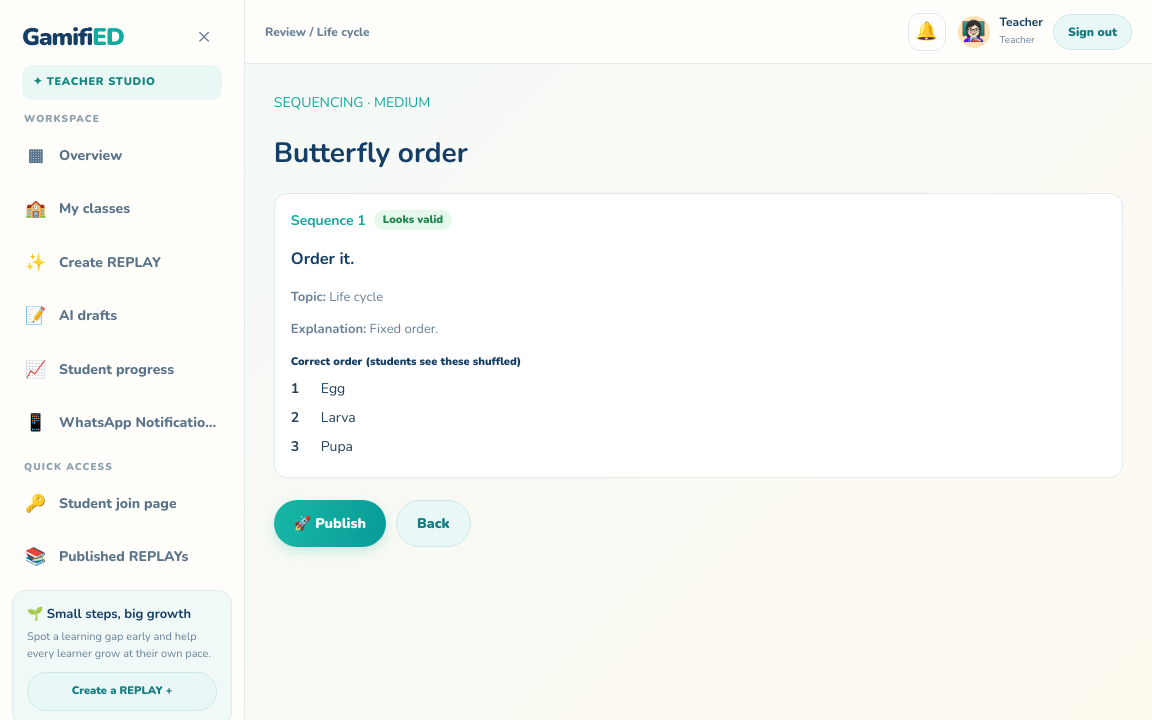
Test case: an approved sequencing draft is published through the sequencing endpoint and the success is shown
Click the button "🚀 Publish" at (330, 524), box x1=274 y1=500 x2=386 y2=547
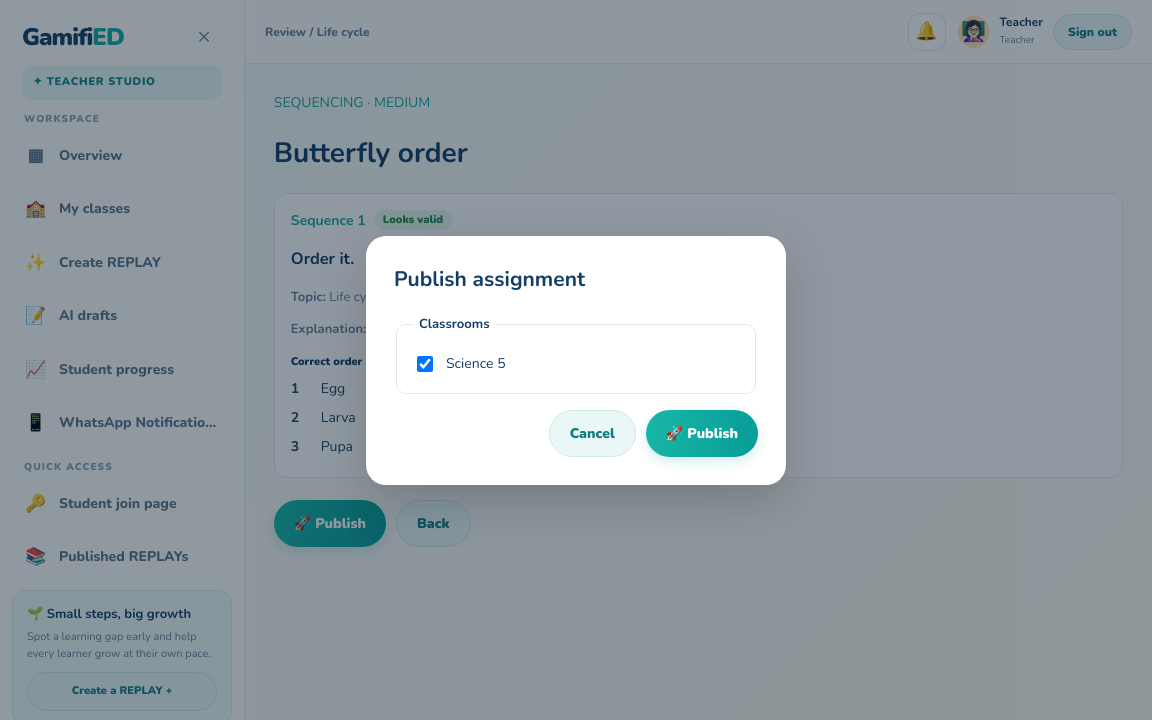
Expected: the checkbox labelled "Science 5" is checked, x1=417 y1=356 x2=433 y2=372
Click the button "🚀 Publish" at (702, 433), box x1=646 y1=410 x2=758 y2=456
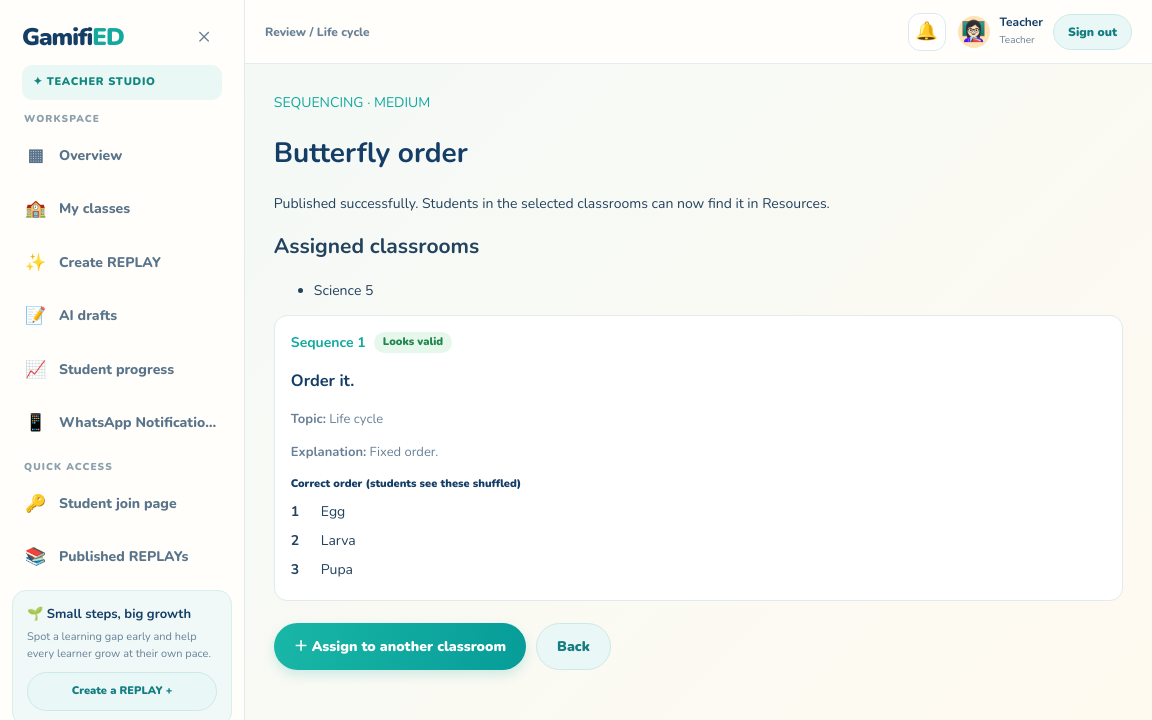
Expected: the list item "Science 5" is shown, x1=314 y1=281 x2=373 y2=300
Expected: the message shows "Published successfully", x1=274 y1=194 x2=830 y2=212
